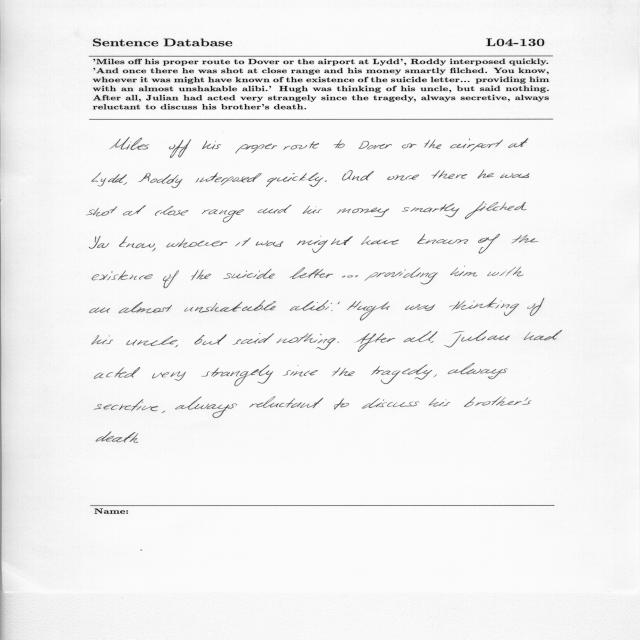word: (201, 365, 274, 386), (175, 397, 237, 418), (364, 268, 438, 285), (450, 298, 519, 316), (184, 300, 276, 313), (371, 365, 432, 384), (444, 331, 510, 348), (276, 333, 336, 350), (448, 363, 508, 379), (297, 236, 353, 253), (196, 173, 262, 186), (465, 202, 514, 219), (94, 399, 158, 412), (250, 397, 324, 408), (402, 204, 460, 218), (266, 173, 323, 187), (355, 333, 396, 352), (451, 139, 504, 152), (138, 173, 183, 188), (464, 397, 531, 407), (357, 302, 390, 321), (362, 398, 419, 409), (167, 238, 228, 248), (92, 271, 153, 281), (119, 302, 172, 313), (94, 367, 140, 379), (202, 210, 244, 223), (290, 267, 334, 279), (337, 208, 389, 218), (223, 269, 275, 279), (126, 336, 178, 346), (417, 234, 468, 244), (233, 333, 274, 345), (290, 300, 332, 311), (478, 234, 500, 254), (119, 236, 155, 248), (235, 144, 277, 154), (169, 139, 191, 158), (96, 432, 136, 442), (283, 365, 318, 376), (524, 331, 562, 341), (404, 331, 438, 342), (487, 267, 524, 277), (194, 334, 227, 345), (361, 236, 399, 245), (152, 371, 186, 381), (155, 206, 188, 216), (283, 141, 319, 150), (432, 170, 467, 179), (258, 205, 292, 214), (527, 298, 544, 316), (87, 206, 117, 216), (163, 270, 179, 288), (110, 137, 131, 150), (358, 141, 392, 149), (450, 266, 477, 276), (90, 236, 110, 249), (123, 205, 146, 216), (512, 235, 539, 244), (131, 138, 150, 150), (352, 171, 374, 181), (191, 270, 211, 281), (508, 138, 529, 148), (405, 304, 435, 311), (92, 335, 113, 345), (332, 368, 355, 377), (429, 398, 451, 407), (92, 173, 106, 187), (256, 240, 284, 247), (388, 175, 420, 181), (424, 139, 442, 149), (334, 398, 349, 410), (202, 141, 221, 150), (108, 174, 127, 183), (303, 205, 322, 214), (500, 173, 530, 178), (477, 170, 494, 178), (235, 238, 251, 246), (347, 301, 361, 310), (90, 307, 110, 313), (342, 170, 353, 180), (515, 202, 527, 210), (331, 301, 340, 311), (334, 140, 345, 148), (130, 433, 138, 443), (402, 144, 417, 149), (342, 275, 358, 278), (152, 248, 156, 252), (433, 374, 437, 378), (123, 182, 127, 185), (430, 341, 434, 343), (175, 345, 178, 347), (162, 411, 165, 413), (325, 181, 327, 182), (337, 342, 339, 343)
